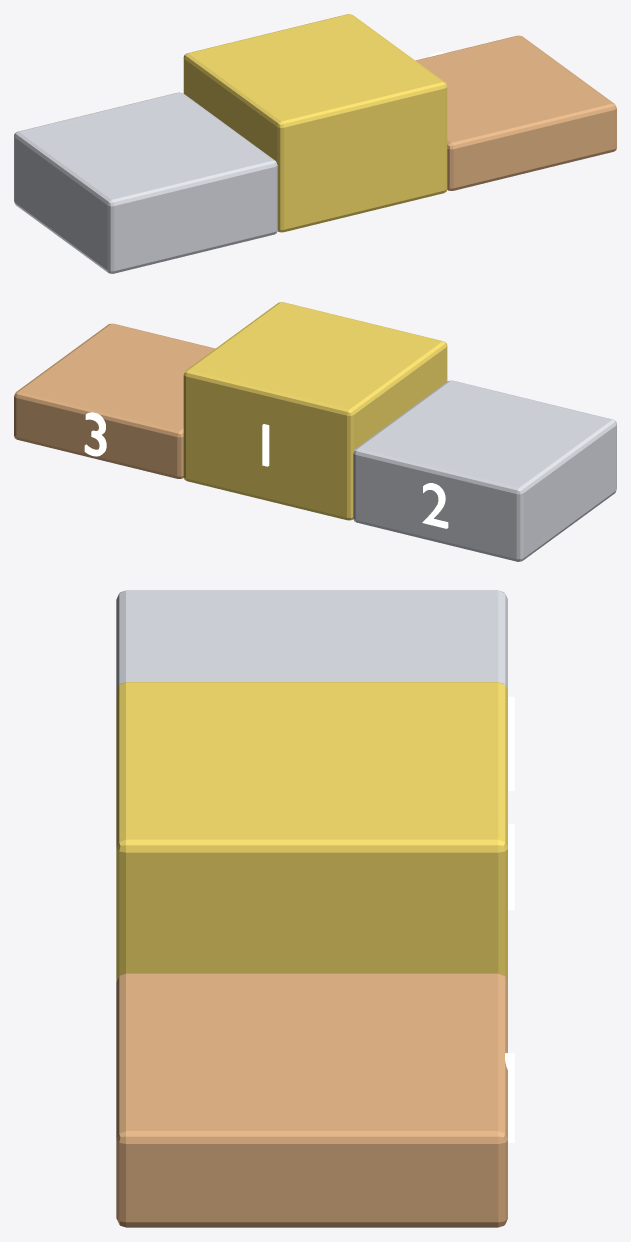
File: podium.glb
The picture shows the model from 3 angles, top to bottom: view 1: azimuth 30°, elevation 25°; view 2: azimuth 150°, elevation 25°; view 3: azimuth 270°, elevation 25°; orthographic projection. The views are drawn at different scales.
Parts seen in each view (by area): view 1: podium; view 2: podium; view 3: podium.
Boxes of the visible parts, x1,y1,x2,y2 form: podium: (14, 14, 616, 273); podium: (14, 302, 616, 561); podium: (116, 590, 514, 1227).
Size of the model in its own units: 7.2 by 1.5 by 2.44.
